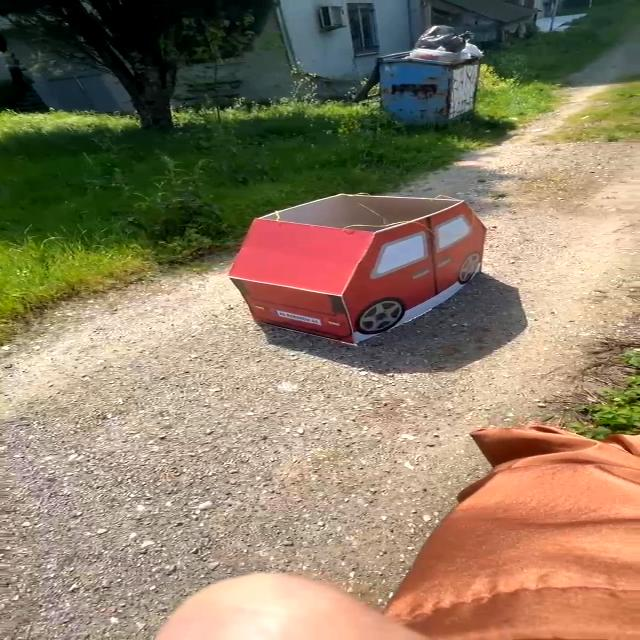red_car: (194, 184, 536, 362)
